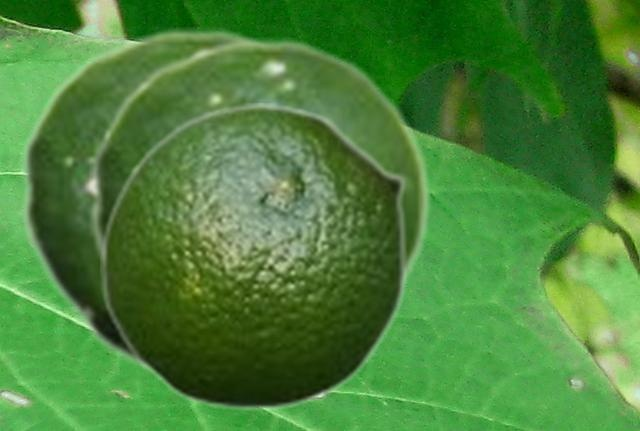calamansi: (89, 37, 431, 333), (100, 103, 408, 411), (20, 27, 269, 374)
